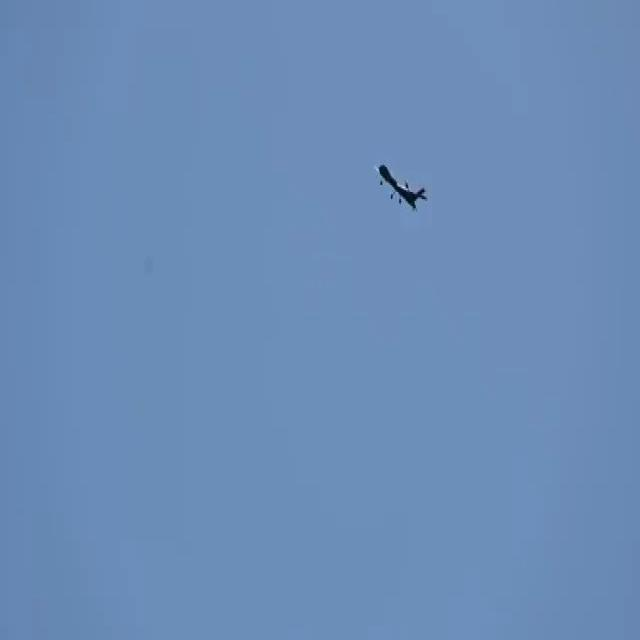iha: (376, 165, 426, 208)
